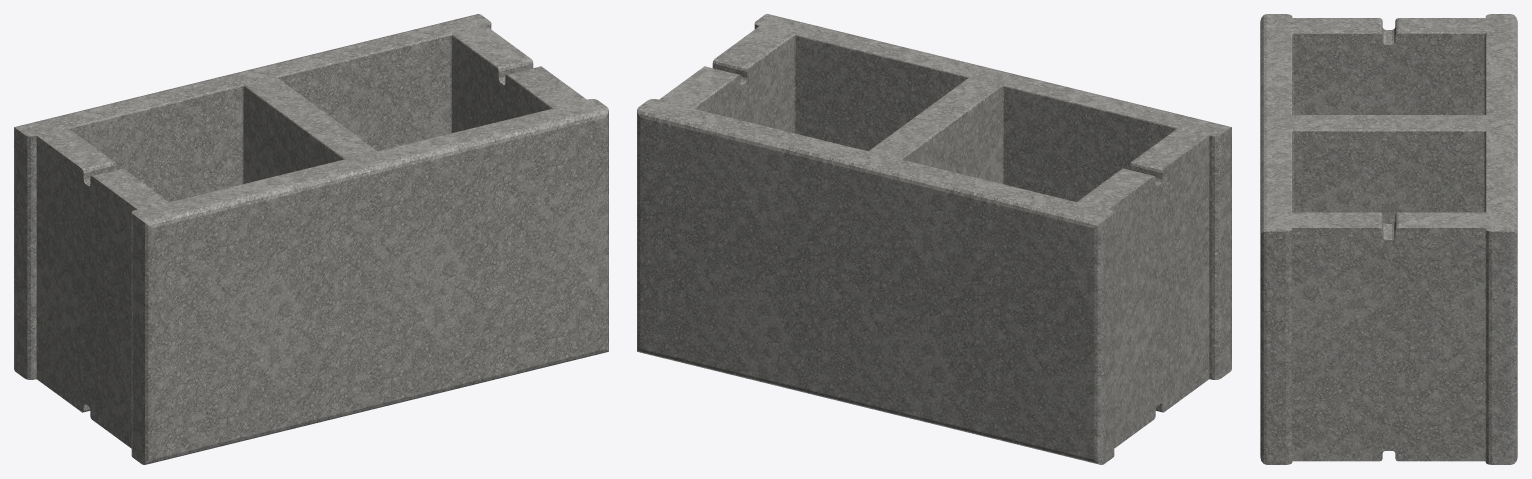
File: Sandcrete block.fbx
The picture shows the model from 3 angles, left to right: view 1: azimuth 30°, elevation 25°; view 2: azimuth 150°, elevation 25°; view 3: azimuth 270°, elevation 25°; orthographic projection. The views are drawn at different scales.
Visible parts, largest first — view 1: Cinderblock/concrete brick; view 2: Cinderblock/concrete brick; view 3: Cinderblock/concrete brick.
Part boxes in pixels (box(x1,y1,x2,y2)): Cinderblock/concrete brick: box(14, 14, 608, 464); Cinderblock/concrete brick: box(637, 14, 1231, 464); Cinderblock/concrete brick: box(1260, 14, 1517, 464).
Size of the model in its own units: 44 by 22 by 22.
1 material, 1 textured.
